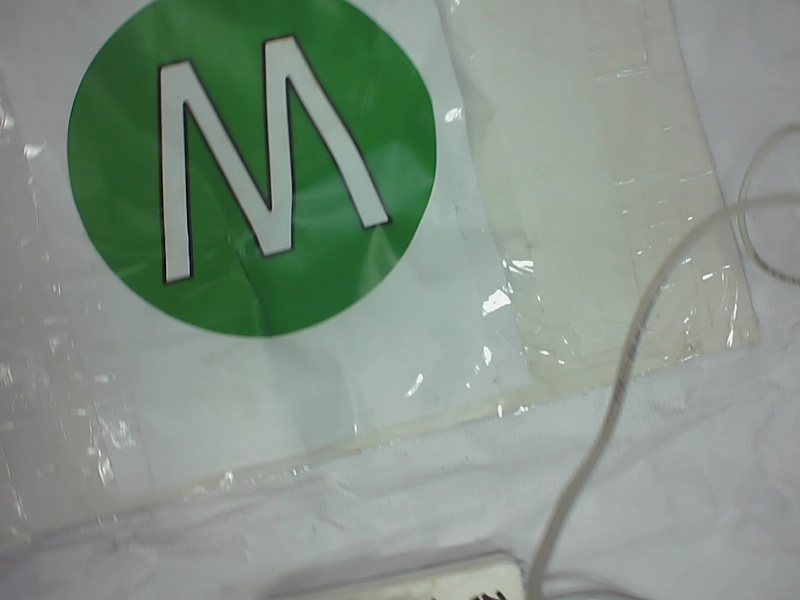areaB: (43, 1, 448, 339)
